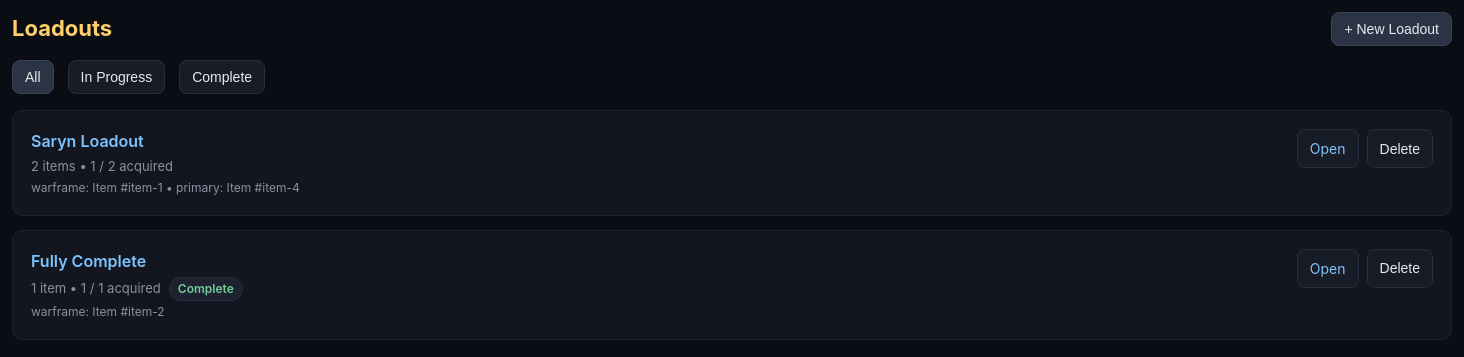
it: LoadoutsPage › filters to show in-progress loadouts
The image size is (1464, 357).
expect the link "Saryn Loadout" is shown: met, box 31,131 -> 144,151
expect the link "Fully Complete" is shown: met, box 31,250 -> 146,270
Click the button "In Progress" at (116, 77), box 68,60 -> 165,94
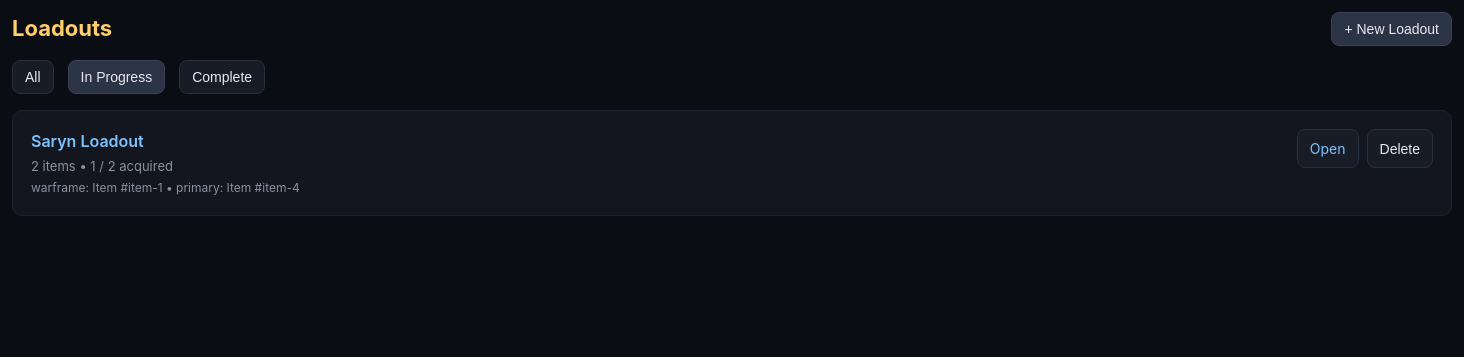
expect the link "Saryn Loadout" is shown: met, box 31,131 -> 144,151
expect the link "Fully Complete" is gone: met
